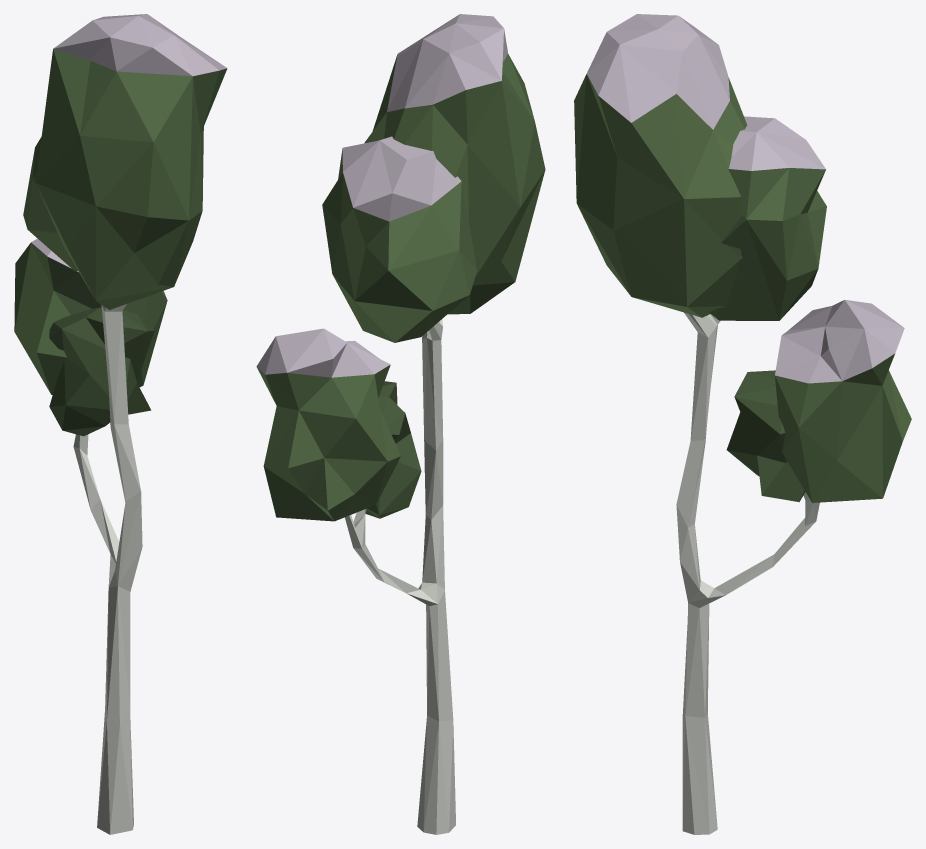
File: BirchTree_Snow_5.lod2.glb
3 views of the same model, side by side, from view 1: azimuth 30°, elevation 25°; view 2: azimuth 150°, elevation 25°; view 3: azimuth 270°, elevation 25° (orthographic). The views are drawn at different scales.
Parts seen in each view (by area): view 1: BirchTree_Snow_5; view 2: BirchTree_Snow_5; view 3: BirchTree_Snow_5.
Part boxes in pixels (x1,y1,x2,y2): BirchTree_Snow_5: (14, 14, 227, 834); BirchTree_Snow_5: (256, 14, 545, 834); BirchTree_Snow_5: (574, 14, 911, 834).
Bounding box in the file's own units: 1.19 × 5.05 × 1.93.
